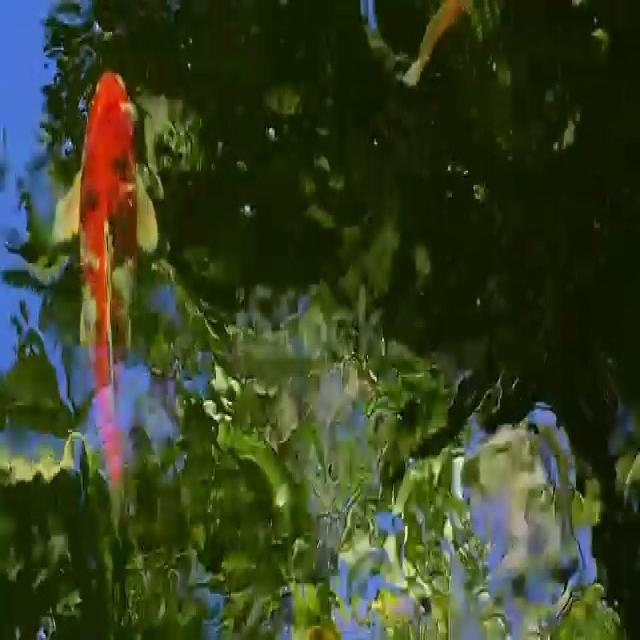fish: (44, 60, 184, 612)
